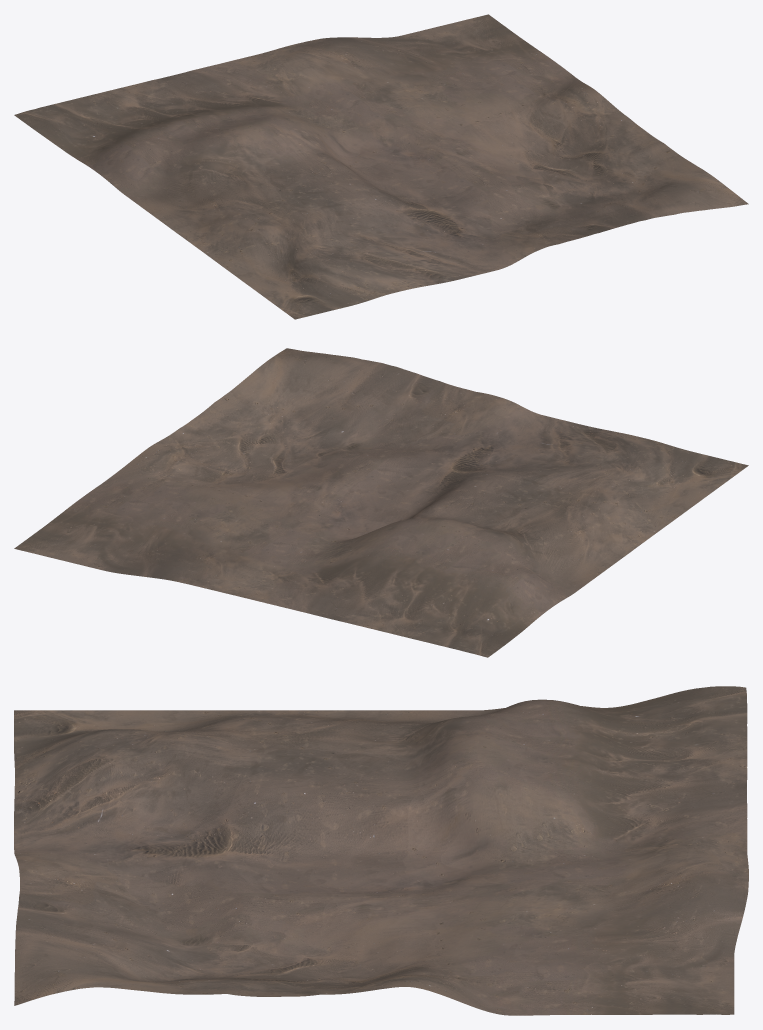
File: terrain.glb
3 renders of one model, top to bottom at view 1: azimuth 30°, elevation 25°; view 2: azimuth 150°, elevation 25°; view 3: azimuth 270°, elevation 25°, orthographic. The views are drawn at different scales.
Parts seen in each view (by area): view 1: Plane; view 2: Plane; view 3: Plane.
Part boxes in pixels (x1,y1,x2,y2): Plane: [14, 14, 748, 319]; Plane: [14, 348, 748, 657]; Plane: [14, 686, 748, 1015].
Size of the model in its own units: 1031 by 102 by 1021.
1 material, 1 textured.
